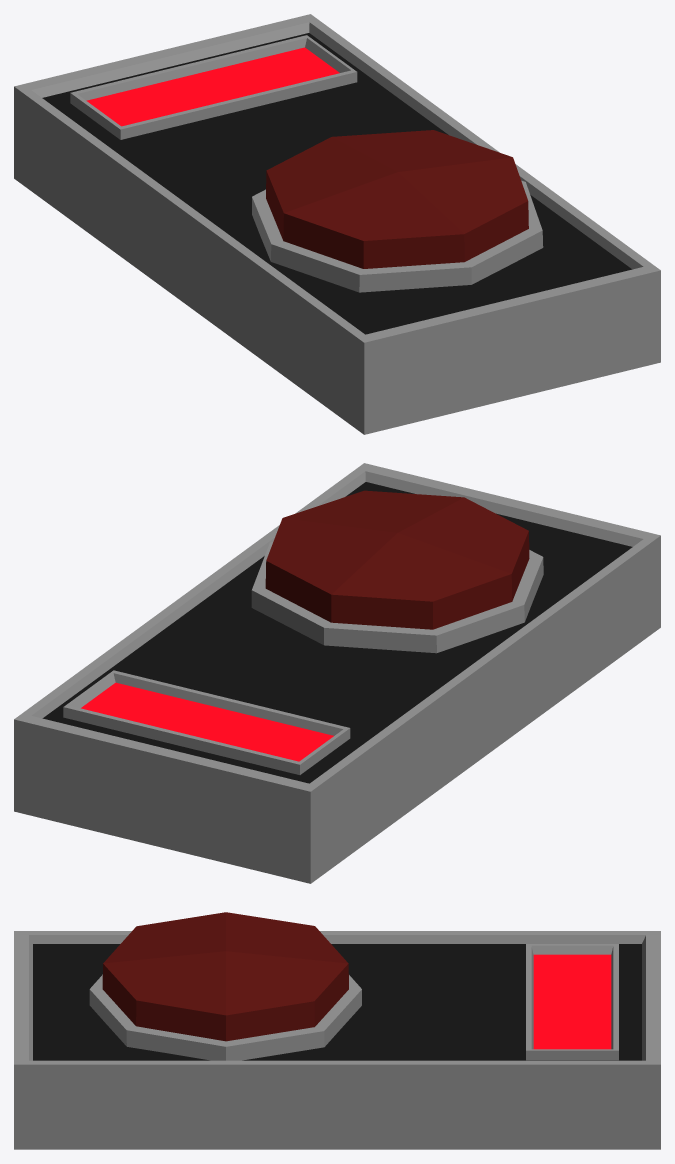
Rendered from PraedatumBasicButtonCannotActivate.glb.
3 views of the same model, one above another, from view 1: azimuth 30°, elevation 25°; view 2: azimuth 150°, elevation 25°; view 3: azimuth 270°, elevation 25° (orthographic). The views are drawn at different scales.
Parts seen in each view (by area): view 1: MainPart, Button Circle, Indicator; view 2: MainPart, Button Circle, Indicator; view 3: MainPart, Button Circle, Indicator.
Part boxes in pixels (x1=…): MainPart: x1=14, y1=14, x2=660, y2=434; Button Circle: x1=252, y1=130, x2=543, y2=292; Indicator: x1=70, y1=35, x2=357, y2=139; MainPart: x1=14, y1=463, x2=660, y2=883; Button Circle: x1=251, y1=490, x2=543, y2=653; Indicator: x1=63, y1=670, x2=350, y2=774; MainPart: x1=14, y1=931, x2=660, y2=1149; Button Circle: x1=89, y1=912, x2=361, y2=1060; Indicator: x1=526, y1=944, x2=618, y2=1060.
Size of the model in its own units: 1.33 by 0.6102 by 2.72.
